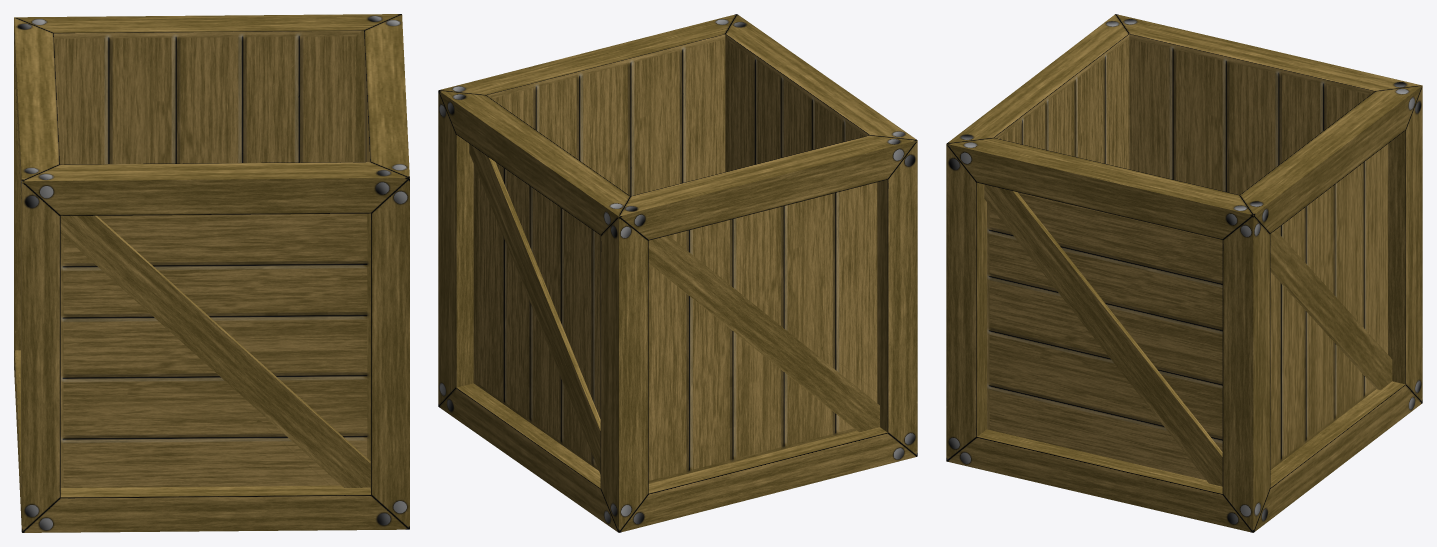
The model's file is CrateOpen.fbx.
3 renders of one model, left to right at view 1: azimuth 30°, elevation 25°; view 2: azimuth 150°, elevation 25°; view 3: azimuth 270°, elevation 25°, orthographic. The views are drawn at different scales.
Visible parts, largest first — view 1: CrateOpen; view 2: CrateOpen; view 3: CrateOpen.
Boxes of the visible parts, box(x1,y1,x2,y2) form: CrateOpen: box(14, 14, 409, 532); CrateOpen: box(438, 14, 917, 532); CrateOpen: box(946, 14, 1422, 532).
Size of the model in its own units: 272 by 200 by 272.
Materials: 1 (1 with a texture image).
